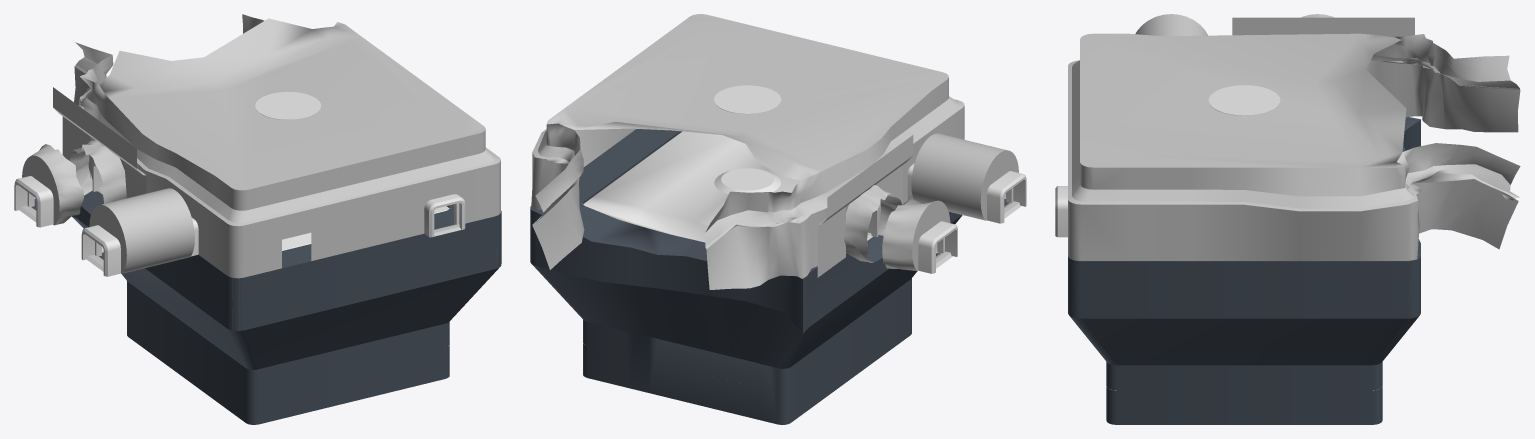
Rendered from SM_Ship_Furnace.fbx.
3 views of the same model, side by side, from view 1: azimuth 30°, elevation 25°; view 2: azimuth 150°, elevation 25°; view 3: azimuth 270°, elevation 25° (orthographic). The views are drawn at different scales.
Visible parts, largest first — view 1: SM_Ship_Furnace; view 2: SM_Ship_Furnace; view 3: SM_Ship_Furnace.
Boxes of the visible parts, bbox=[...] form: SM_Ship_Furnace: bbox=[14, 14, 501, 424]; SM_Ship_Furnace: bbox=[530, 14, 1026, 424]; SM_Ship_Furnace: bbox=[1055, 14, 1520, 424].
Bounding box in the file's own units: 7768 × 5360 × 7638.
